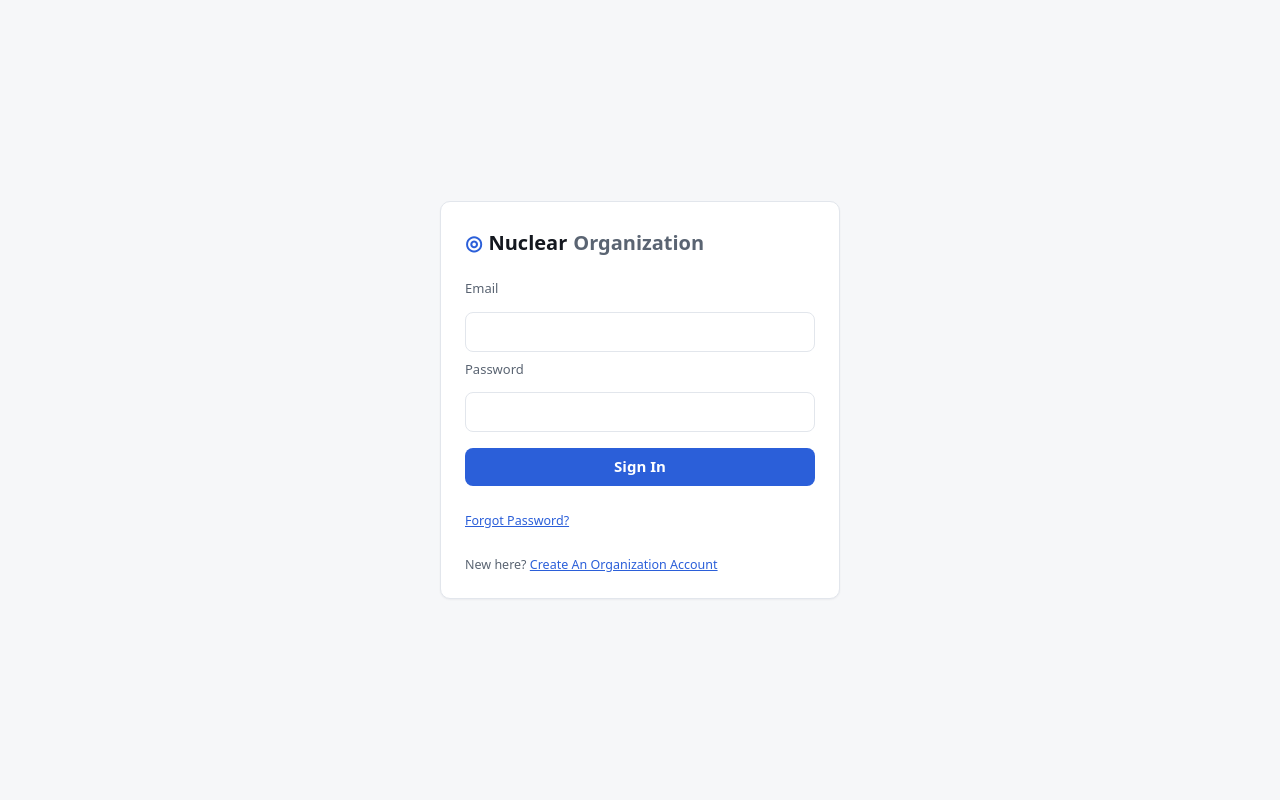
Scenario: organization portal › signs in, keeps the token for this tab and shows the wallet, employees and held money
This screenshot has width=1280, height=800.
Step 1. Type "HR@Acme.test" into the field labelled "Email" → [640, 332], box [465,312,815,352]
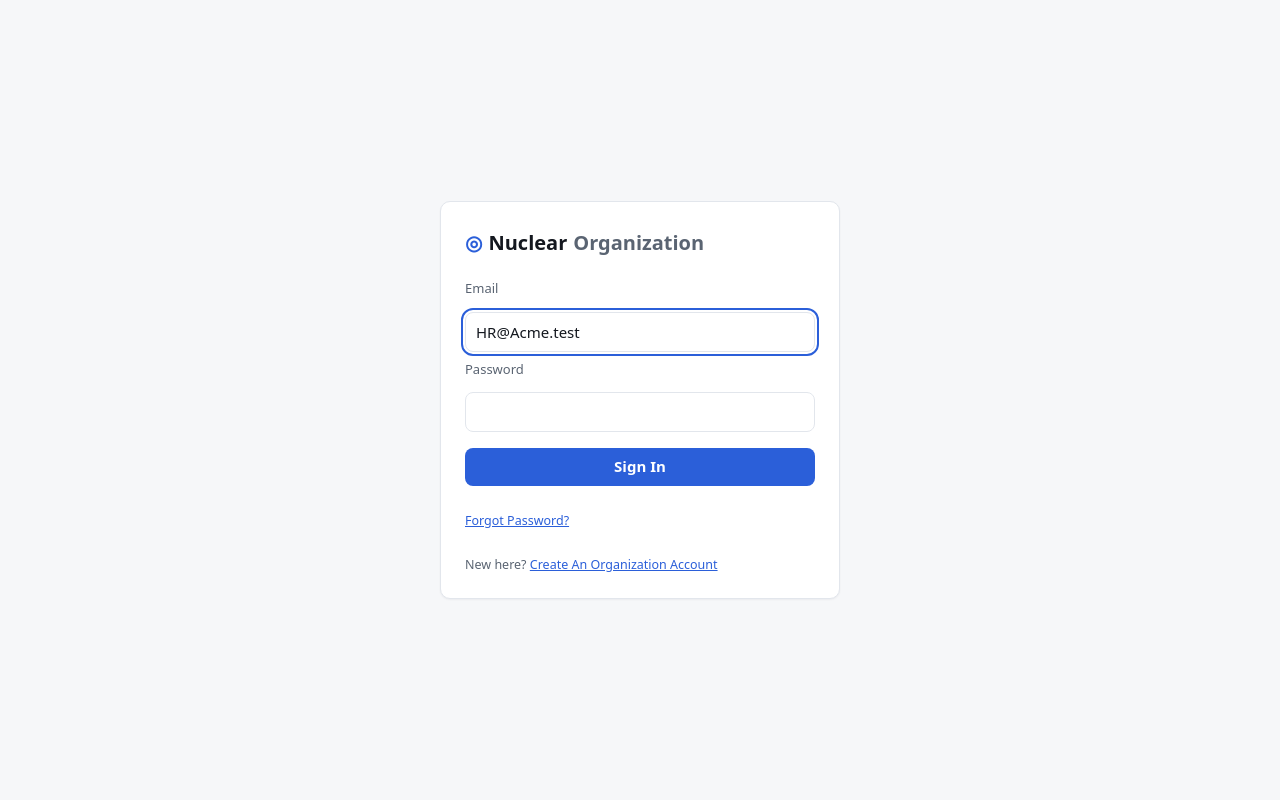
Step 2. Type "correct horse battery" into the password field labelled "Password" → [640, 412], box [465,392,815,432]
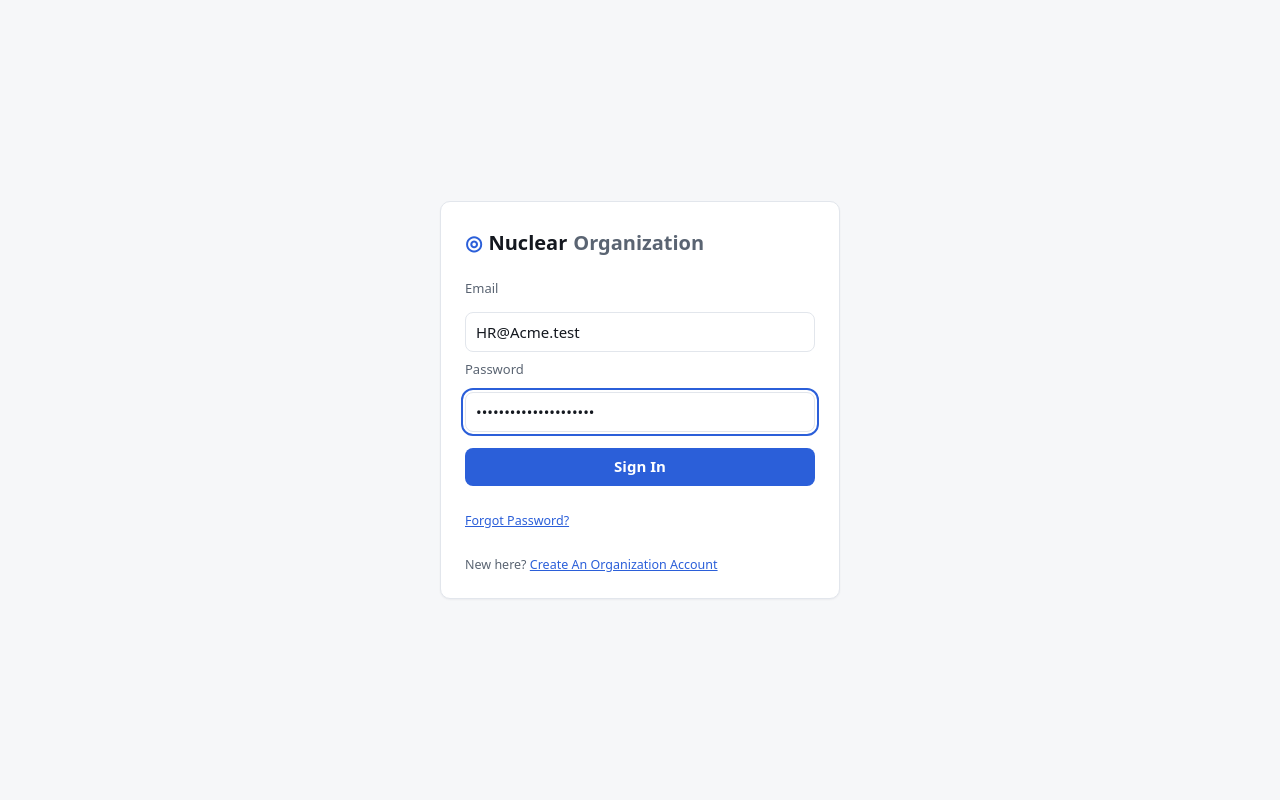
Step 3. Click the button "Sign In" → [640, 467], box [465,448,815,486]
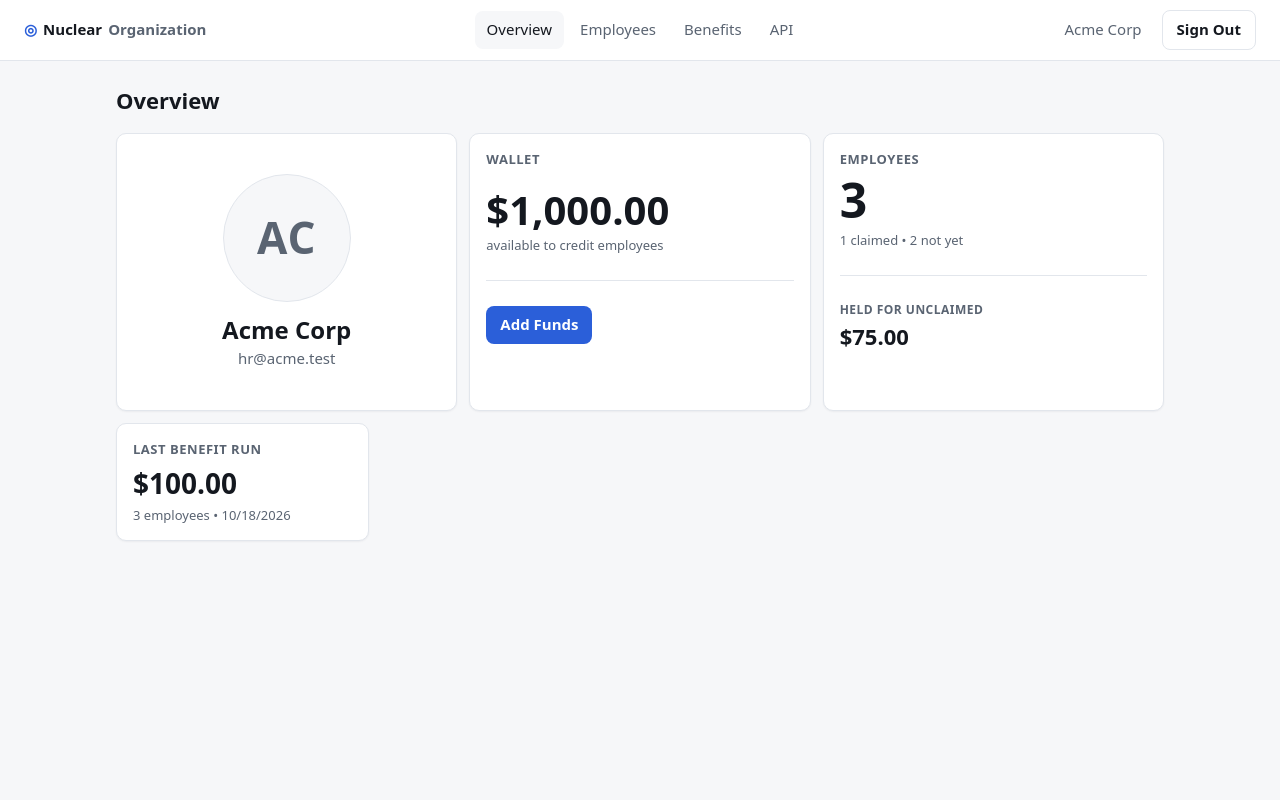
Result: the element "Wallet" shows "$1,000.00" at [486,182,669,238]
Result: the element "Employees" shows "1 claimed • 2 not yet" at [823,133,1164,411]
Result: the element "Employees" shows "$75.00" at [840,320,909,350]
